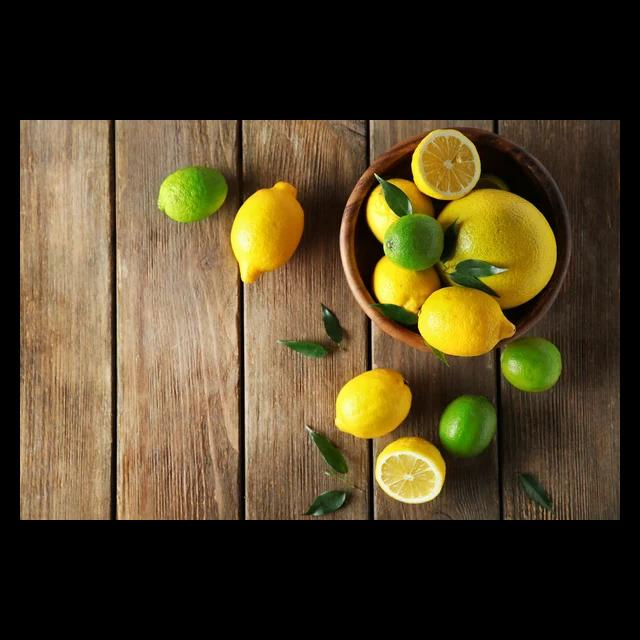lime: (433, 386, 506, 460), (495, 331, 573, 399), (154, 162, 234, 226), (379, 209, 453, 275)
